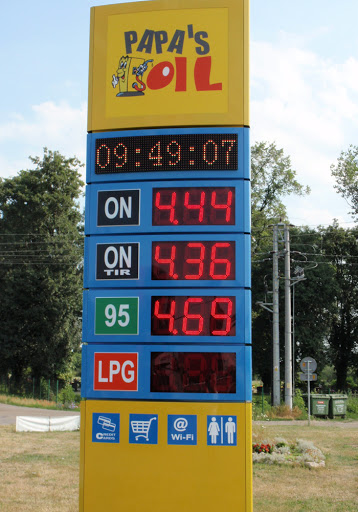LPG: (94, 350, 138, 390)
ON: (97, 189, 140, 228), (97, 242, 138, 279)
PB95: (94, 296, 138, 334)
